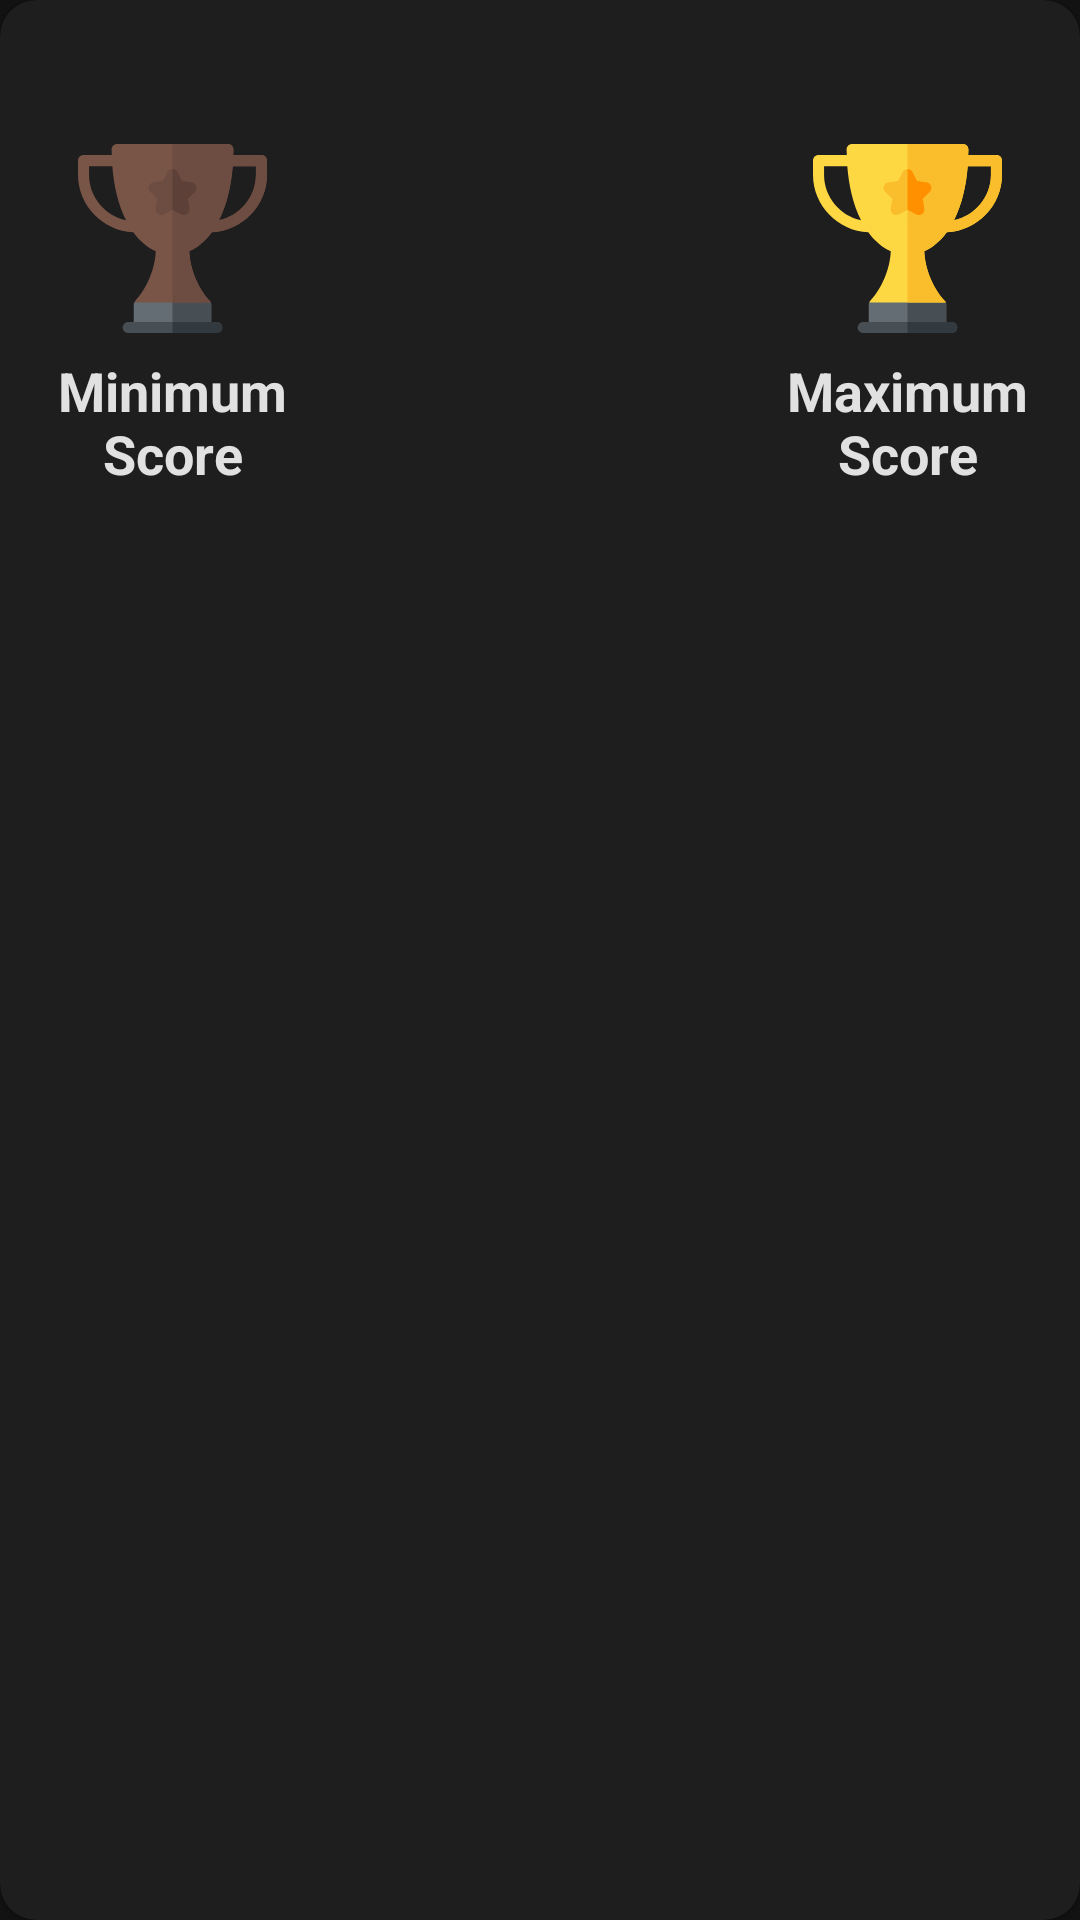

Where icons sit on this 1080×1920 app screen, as [x1,y1,x2,y2]:
gold trophy: [813,144,1002,333]
wood trophy: [78,144,267,333]
